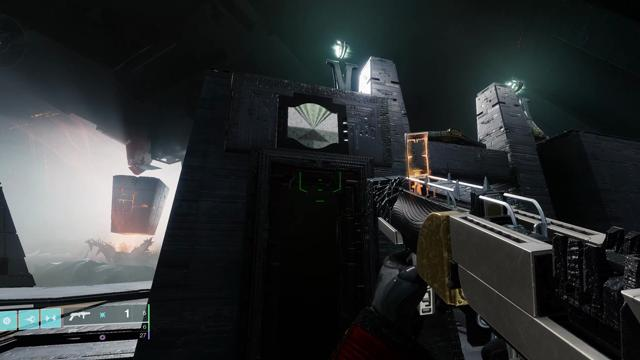commune: (287, 103, 339, 149)
